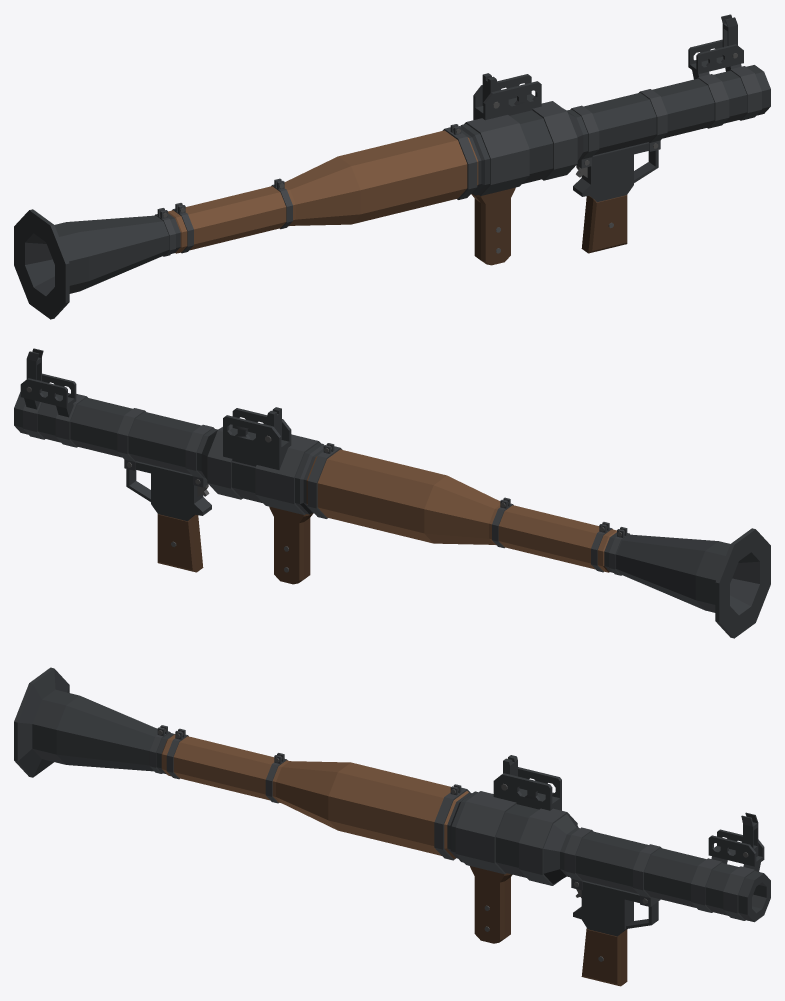
File: HeavyWeapon2_01.fbx
3 views of the same model, one above another, from view 1: azimuth 30°, elevation 25°; view 2: azimuth 150°, elevation 25°; view 3: azimuth 330°, elevation 25° (orthographic).
Parts seen in each view (by area): view 1: HeavyWeapon2_01; view 2: HeavyWeapon2_01; view 3: HeavyWeapon2_01.
Part boxes in pixels (x1=…): HeavyWeapon2_01: x1=14, y1=14, x2=770, y2=319; HeavyWeapon2_01: x1=14, y1=348, x2=770, y2=638; HeavyWeapon2_01: x1=14, y1=667, x2=770, y2=986.
Size of the model in its own units: 1.09 by 0.2731 by 0.1355.
